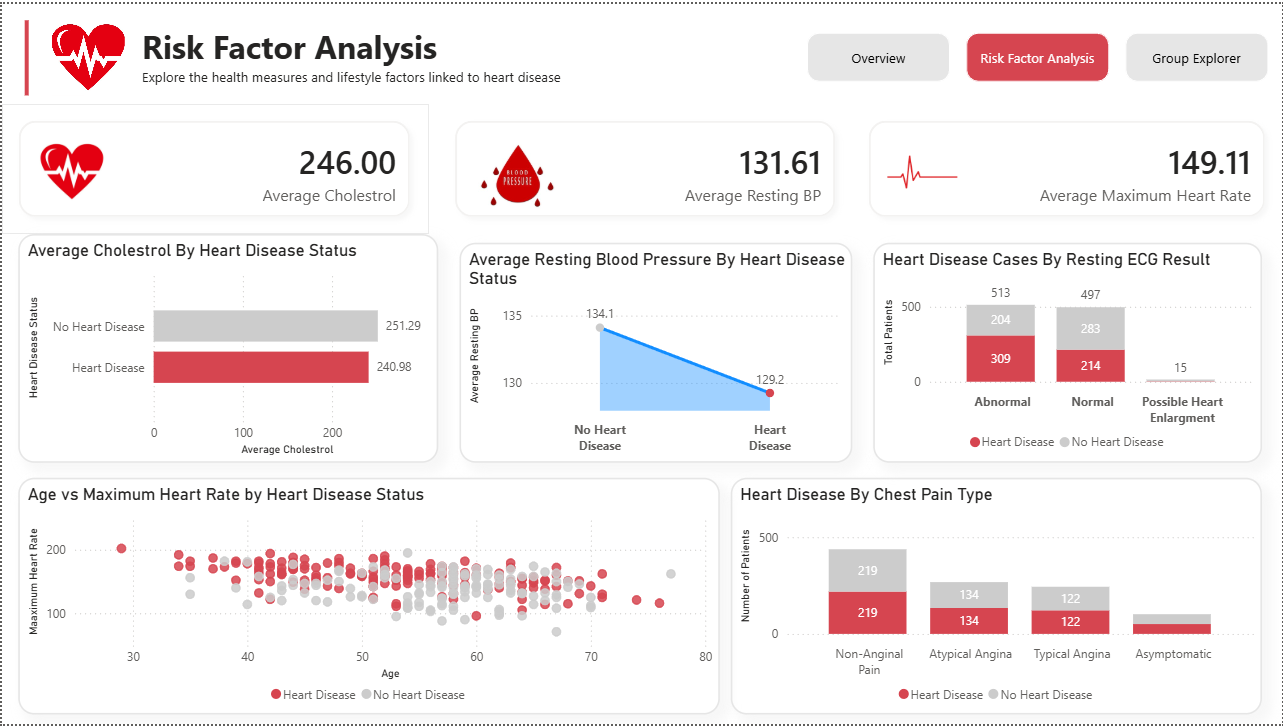

This screenshot's page, from the dashboard's own definition file:
{"tool":"powerbi","page":{"name":"Risk Factor Analysis","canvas":[1280,720],"ordinal":1},"visuals":[{"type":"pageNavigator","box":[805.5,28.8,463.8,49.4],"z":0},{"type":"shape","box":[0,16.5,49.4,75.5],"z":1000},{"type":"textbox","box":[134.5,16.5,583.2,75.5],"z":2000},{"type":"image","box":[49.4,16.5,72.7,75.5],"z":3000},{"type":"cardVisual","fields":{"Data":["Cardio Heart Dashboard.Average Cholestrol"]},"box":[0,100,425.7,130],"z":4000},{"type":"cardVisual","fields":{"Data":["Cardio Heart Dashboard.Average Resting BP"]},"box":[435.7,100,414.3,130],"z":5000},{"type":"cardVisual","fields":{"Data":["Cardio Heart Dashboard.Average Maximum Heart Rate"]},"box":[850,100,430,130],"z":7000},{"type":"clusteredBarChart","title":"Average Cholestrol By Heart Disease Status","fields":{"Category":["Cardio Heart Dashboard.Heart Disease Status"],"Y":["Cardio Heart Dashboard.Average Cholestrol"]},"box":[15.7,230,420,228.6],"z":8000},{"type":"areaChart","title":"Average Resting Blood Pressure By Heart Disease Status","fields":{"Category":["Cardio Heart Dashboard.Heart Disease Status"],"Y":["Cardio Heart Dashboard.Average Resting BP"]},"box":[457.1,238.6,392.9,220],"z":9000},{"type":"columnChart","title":"Heart Disease By Chest Pain Type","fields":{"Y":["Cardio Heart Dashboard.Patients with Heart Disease"],"Category":["Cardio Heart Dashboard.Chest Pain Type"],"Series":["Cardio Heart Dashboard.Heart Disease Status"]},"box":[728.6,474.3,531.4,237.1],"z":10000},{"type":"scatterChart","title":"Age vs Maximum Heart Rate by Heart Disease Status","fields":{"X":["Cardio Heart Dashboard.Age"],"Y":["Cardio Heart Dashboard.Maximum Heart Rate"],"Series":["Cardio Heart Dashboard.Heart Disease Status"]},"box":[15.7,474.3,701.4,237.1],"z":11000},{"type":"columnChart","title":"Heart Disease Cases By Resting ECG Result ","fields":{"Series":["Cardio Heart Dashboard.Heart Disease Status"],"Category":["Cardio Heart Dashboard.Resting ECG Result"],"Y":["Cardio Heart Dashboard.Total Patients"]},"box":[871.4,238.6,388.6,220],"z":12000}]}

Visuals, with their boxes in screenshot pixels (x1, y1, x2, y2), scaled from the page's 1280x720 canvas onto the 1283x728 screenshot:
pageNavigator: [left=807, top=29, right=1272, bottom=79]
shape: [left=0, top=17, right=50, bottom=93]
textbox: [left=135, top=17, right=719, bottom=93]
image: [left=50, top=17, right=122, bottom=93]
cardVisual - Cardio Heart Dashboard.Average Cholestrol: [left=0, top=101, right=427, bottom=233]
cardVisual - Cardio Heart Dashboard.Average Resting BP: [left=437, top=101, right=852, bottom=233]
cardVisual - Cardio Heart Dashboard.Average Maximum Heart Rate: [left=852, top=101, right=1282, bottom=233]
"Average Cholestrol By Heart Disease Status" clusteredBarChart: [left=16, top=233, right=437, bottom=464]
"Average Resting Blood Pressure By Heart Disease Status" areaChart: [left=458, top=241, right=852, bottom=464]
"Heart Disease By Chest Pain Type" columnChart: [left=730, top=480, right=1263, bottom=719]
"Age vs Maximum Heart Rate by Heart Disease Status" scatterChart: [left=16, top=480, right=719, bottom=719]
"Heart Disease Cases By Resting ECG Result " columnChart: [left=873, top=241, right=1263, bottom=464]
